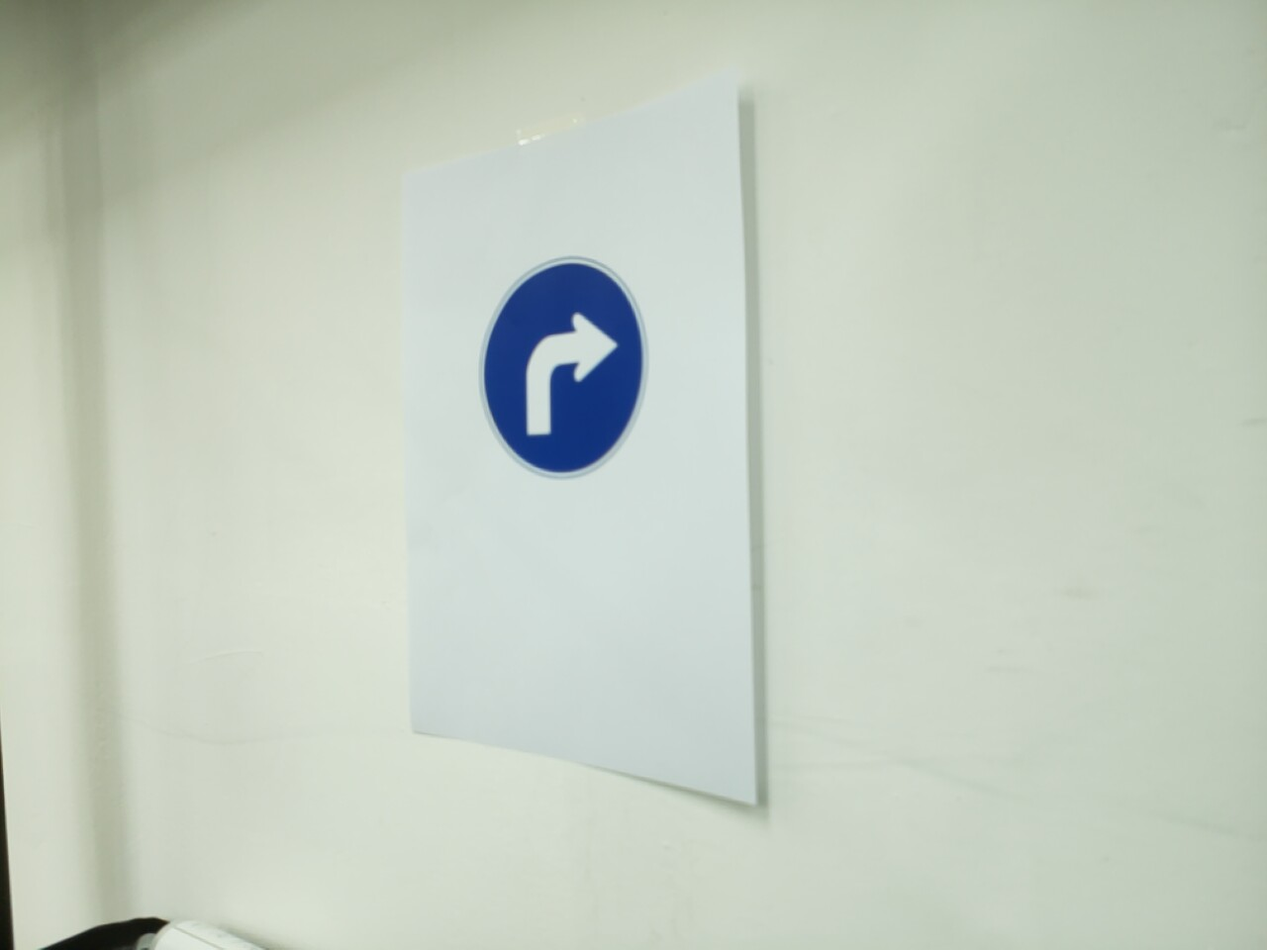right_turn: (477, 255, 649, 481)
